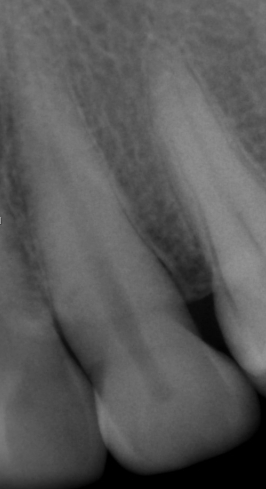tooth: (11, 31, 260, 476)
